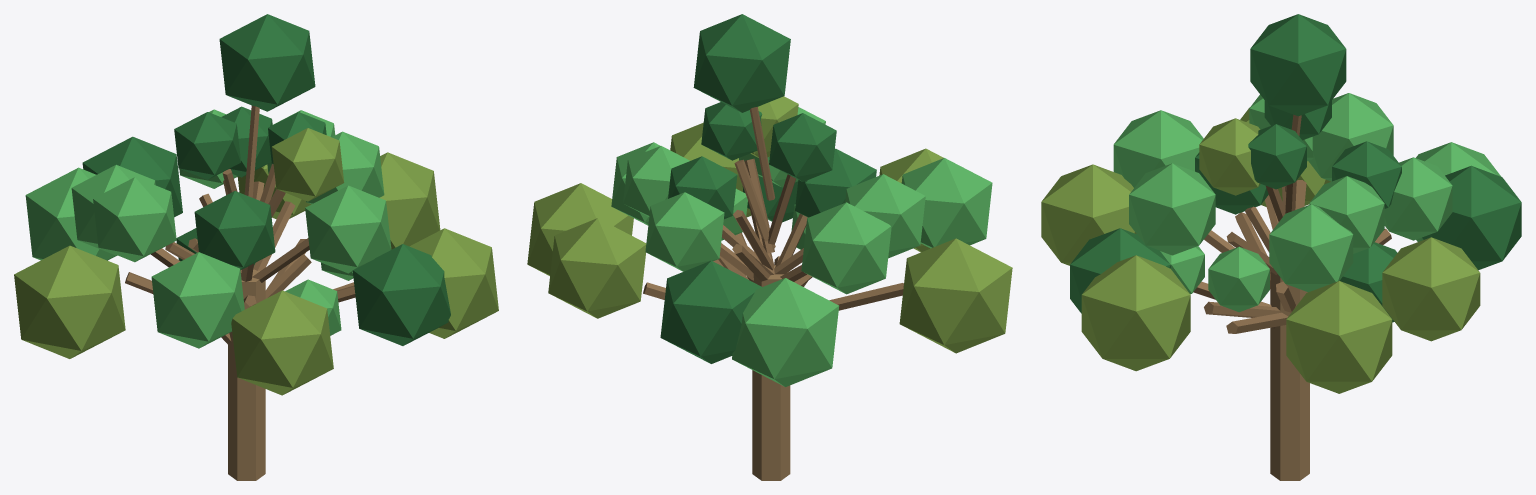
File: Tree_13.glb
3 renders of one model, left to right at view 1: azimuth 30°, elevation 25°; view 2: azimuth 150°, elevation 25°; view 3: azimuth 270°, elevation 25°, orthographic. The views are drawn at different scales.
Visible parts, largest first — view 1: T13_Sphere_07, T13_Sphere_08, T13_Sphere_13, T13_Sphere_03, T13_Sphere_12, T13_Sphere_18, T13_Sphere_20, T13_Sphere_09, T13_Sphere_17, T13_Trunk, T13_Sphere_05, T13_Sphere_23 (+13 smaller); view 2: T13_Sphere_07, T13_Sphere_11, T13_Sphere_10, T13_Sphere_03, T13_Sphere_06, T13_Sphere_16, T13_Sphere_12, T13_Sphere_15, T13_Sphere_05, T13_Trunk, T13_Sphere_20, T13_Sphere_22 (+19 smaller); view 3: T13_Sphere_09, T13_Sphere_05, T13_Sphere_10, T13_Sphere_03, T13_Sphere_08, T13_Sphere_18, T13_Sphere_06, T13_Trunk, T13_Sphere_14, T13_Sphere_12, T13_Sphere_15, T13_Sphere_16 (+16 smaller).
Boxes of the visible parts, x1,y1,x2,y2 form: T13_Sphere_07: (14,245,125,358); T13_Sphere_08: (231,290,333,395); T13_Sphere_13: (352,244,450,345); T13_Sphere_03: (219,14,315,111); T13_Sphere_12: (151,252,244,348); T13_Sphere_18: (305,185,391,273); T13_Sphere_20: (93,177,176,262); T13_Sphere_09: (409,228,498,338); T13_Sphere_17: (194,191,275,270); T13_Trunk: (228,269,265,480); T13_Sphere_05: (379,152,440,249); T13_Sphere_23: (271,128,344,201); T13_Sphere_07: (899,238,1012,353); T13_Sphere_11: (732,278,839,386); T13_Sphere_10: (548,218,646,318); T13_Sphere_03: (693,14,790,112); T13_Sphere_06: (660,260,761,363); T13_Sphere_16: (801,202,891,294); T13_Sphere_12: (901,158,992,248); T13_Sphere_15: (645,192,724,271); T13_Sphere_05: (527,183,633,275); T13_Trunk: (752,265,790,480); T13_Sphere_20: (845,174,925,258); T13_Sphere_22: (769,113,836,181); T13_Sphere_09: (1081,255,1190,371); T13_Sphere_05: (1286,281,1392,393); T13_Sphere_10: (1382,237,1480,341); T13_Sphere_03: (1250,14,1346,116); T13_Sphere_08: (1041,164,1136,265); T13_Sphere_18: (1129,163,1215,255); T13_Sphere_06: (1422,165,1521,270); T13_Trunk: (1270,271,1309,480); T13_Sphere_14: (1269,204,1353,292); T13_Sphere_12: (1113,110,1203,187); T13_Sphere_15: (1384,157,1452,240); T13_Sphere_16: (1308,93,1393,181).
Bounding box in the file's own units: 3.23 × 3.17 × 2.92.
